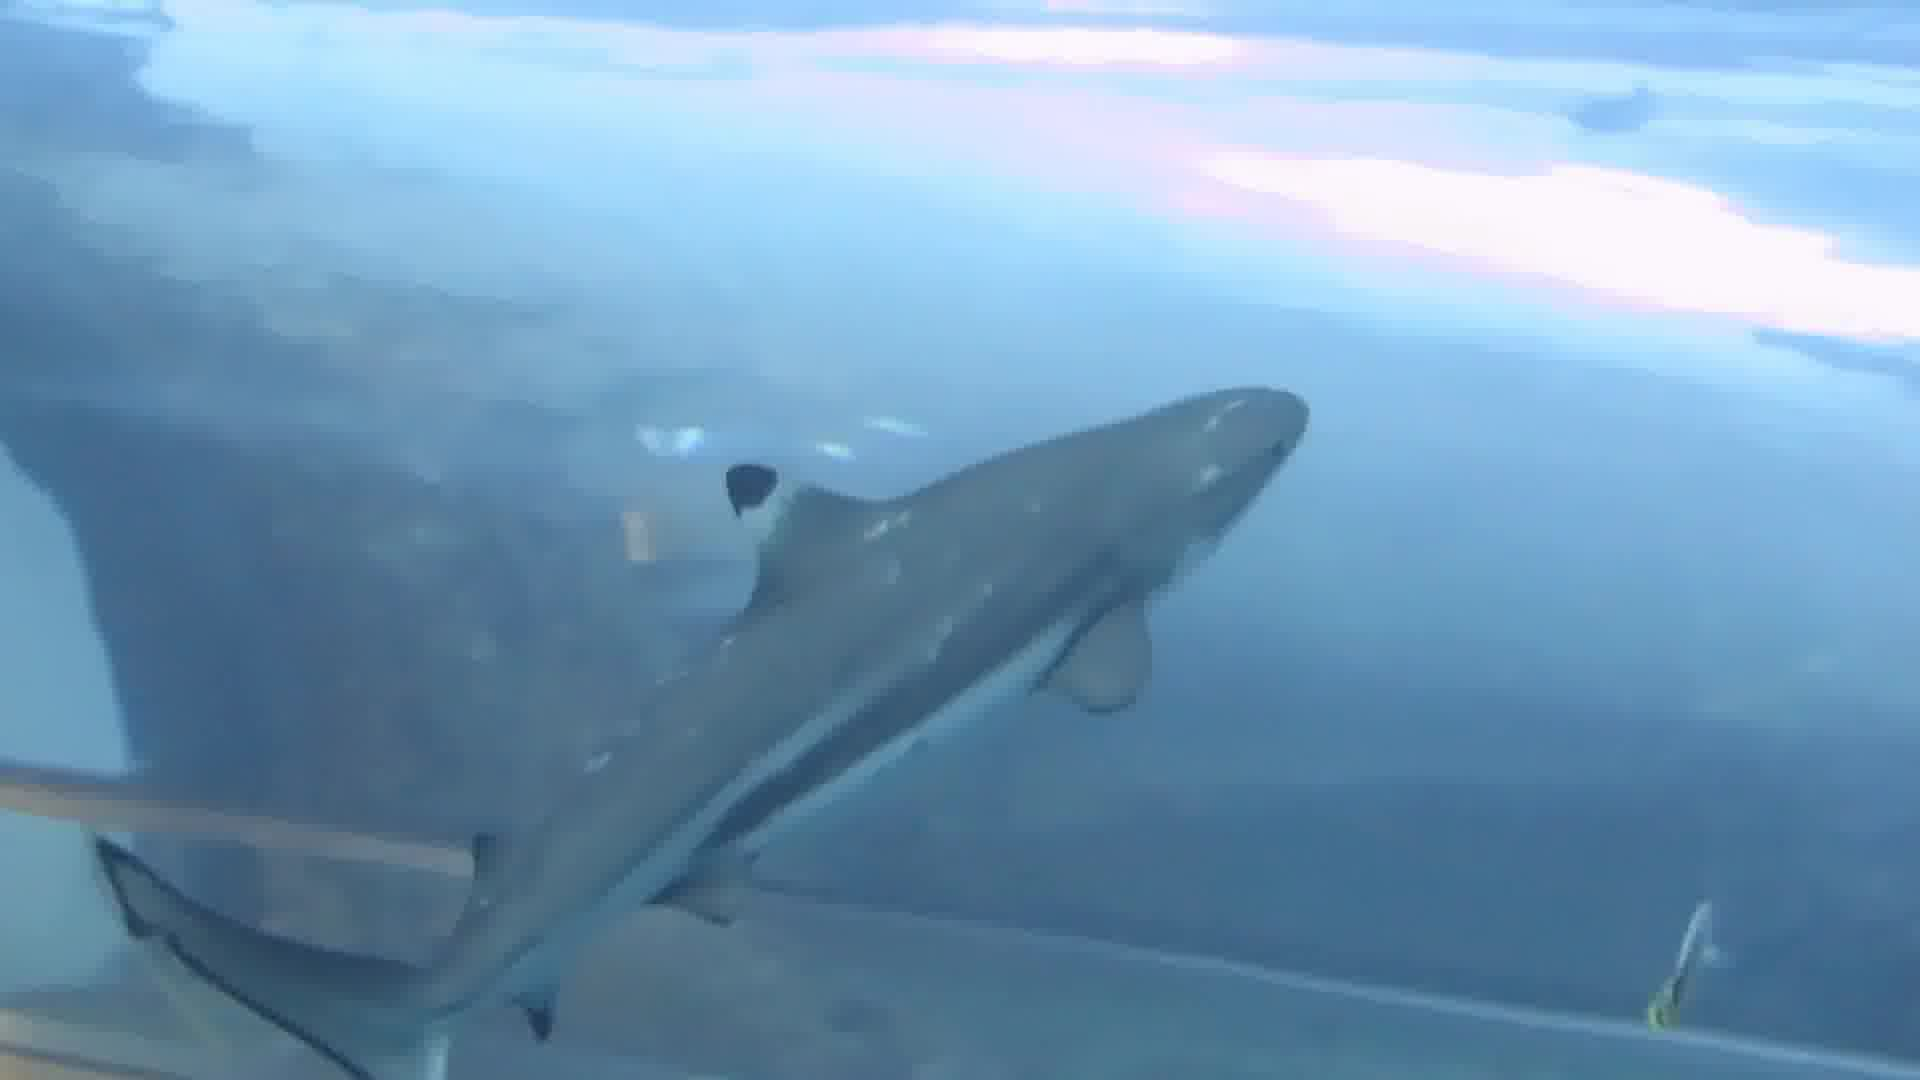Carcharhinus melanopterus: (1, 373, 1331, 1048)
